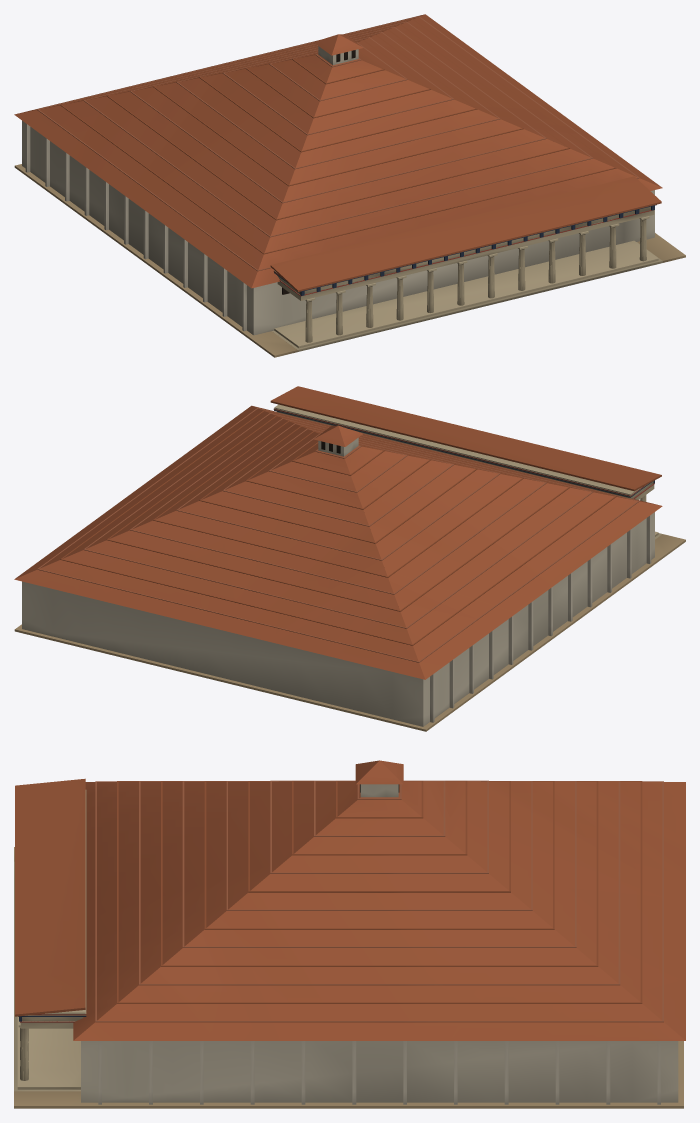
File: odeon-pericles.glb
The picture shows the model from 3 angles, top to bottom: view 1: azimuth 30°, elevation 25°; view 2: azimuth 150°, elevation 25°; view 3: azimuth 270°, elevation 25°; orthographic projection. The views are drawn at different scales.
Visible parts, largest first — view 1: p2_roof, p1_porch, p0_walls; view 2: p2_roof, p0_walls, p1_porch; view 3: p2_roof, p0_walls, p1_porch.
Boxes of the visible parts, x1,y1,x2,y2 form: p2_roof: (14,14,662,288); p1_porch: (270,176,662,351); p0_walls: (14,120,685,357); p2_roof: (14,405,662,679); p0_walls: (14,512,685,731); p1_porch: (270,386,662,539); p2_roof: (73,760,685,1040); p0_walls: (14,847,683,1108); p1_porch: (14,778,86,1091).
Bounding box in the file's own units: 64 × 25.2 × 70.2.
